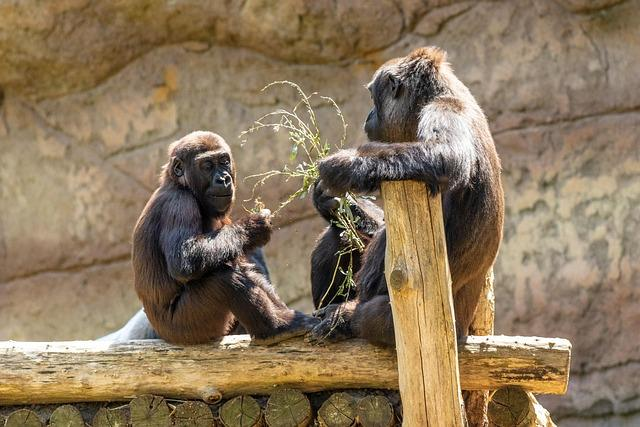gorille_Autres: (320, 45, 536, 368), (123, 114, 312, 364)
